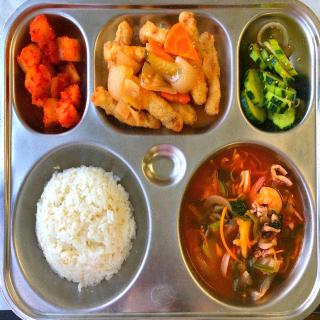Nasi: (34, 162, 142, 298)
